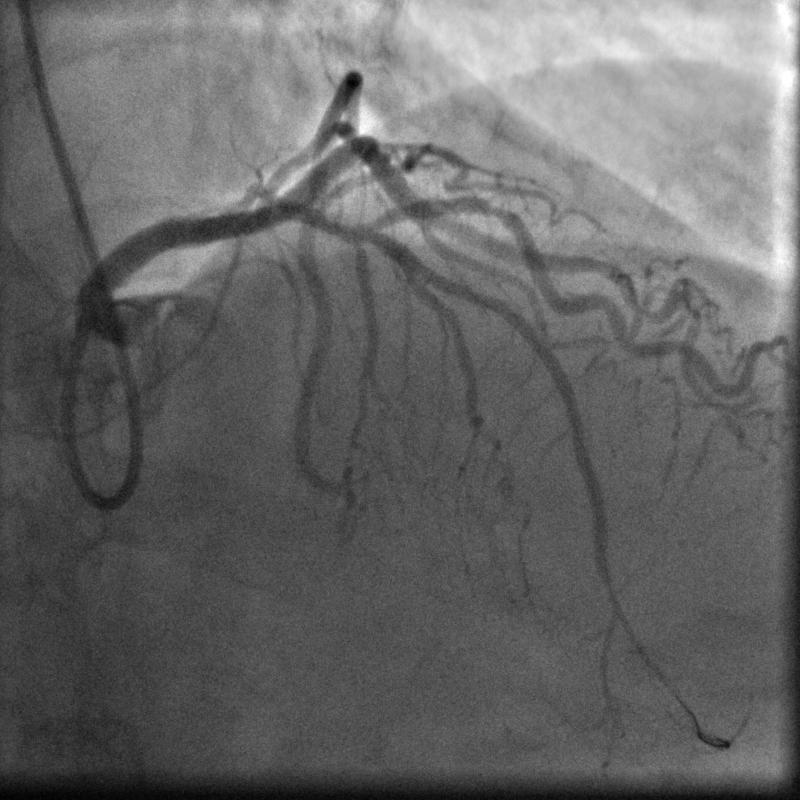Stenosis: (473, 191, 521, 223)
